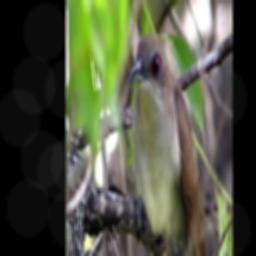Cuckoo: (127, 32, 208, 256)
